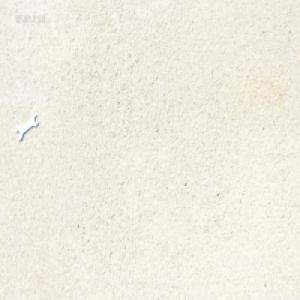Wrench: (19, 108, 42, 140)
